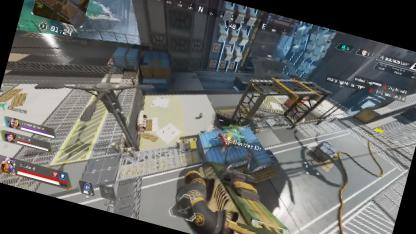Target: (197, 110, 204, 119)
